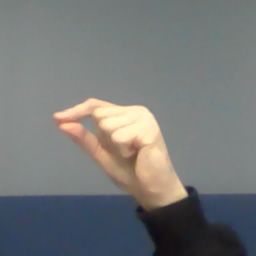S: (50, 95, 179, 190)
